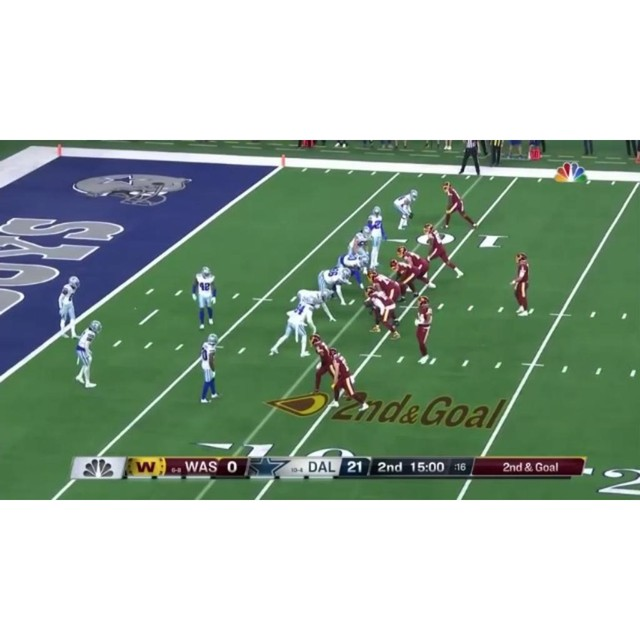american-football-player: (269, 295, 317, 357), (328, 348, 369, 410), (423, 222, 464, 279), (364, 286, 400, 339), (75, 319, 102, 389), (398, 245, 438, 291), (441, 181, 477, 229), (309, 334, 337, 395), (293, 288, 336, 325), (198, 334, 221, 403), (192, 266, 217, 328), (509, 253, 533, 316), (57, 277, 81, 338), (413, 296, 434, 363), (364, 206, 386, 268), (318, 267, 352, 306), (338, 251, 370, 290), (368, 269, 403, 303), (390, 258, 419, 298), (393, 189, 418, 230)
referee: (458, 140, 481, 176)
